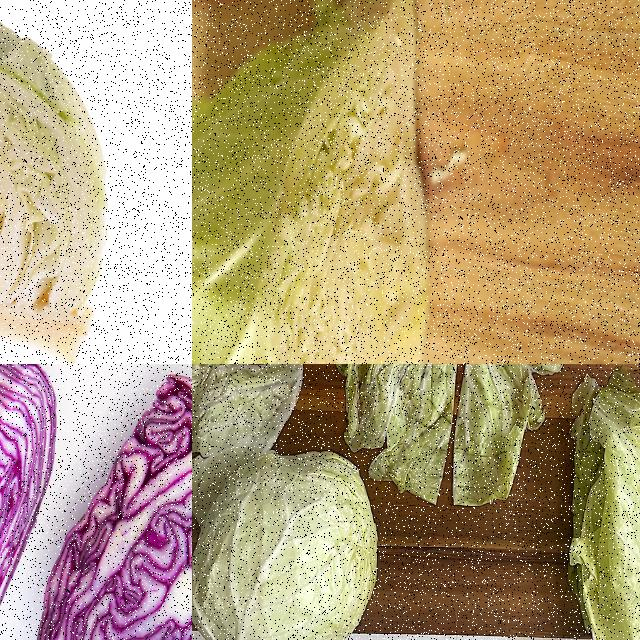cabbage: (192, 0, 436, 363), (18, 370, 191, 639), (0, 6, 117, 363), (192, 447, 380, 639), (0, 364, 60, 639)
